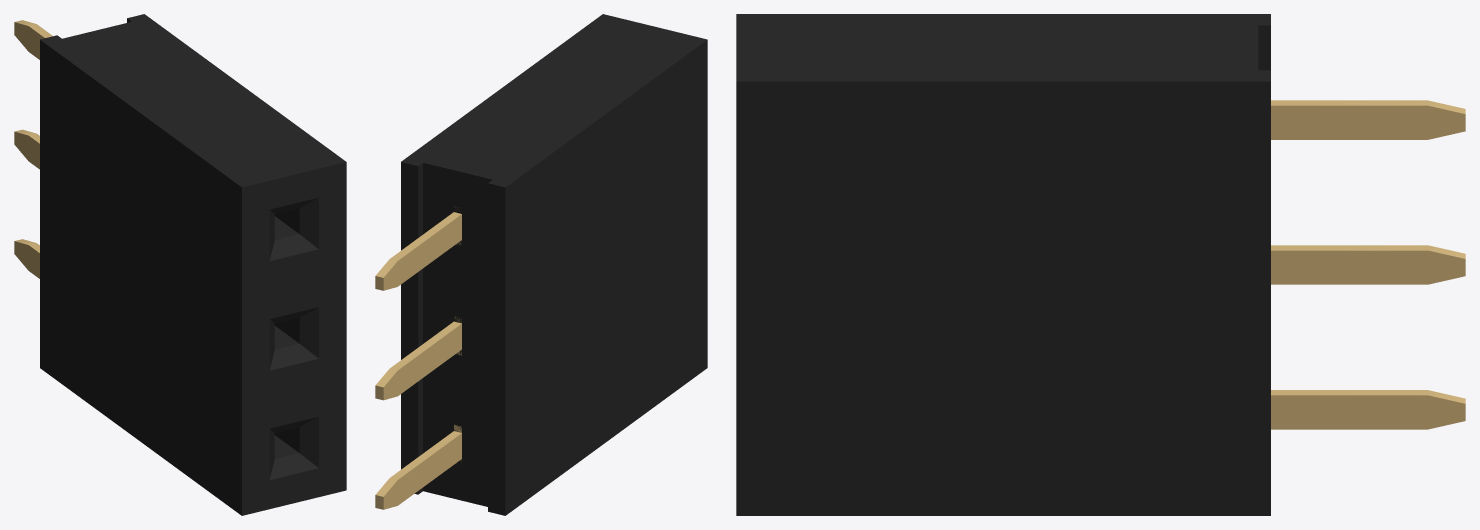
Rendered from socket-1x03.glb.
3 views of the same model, side by side, from view 1: azimuth 30°, elevation 25°; view 2: azimuth 150°, elevation 25°; view 3: azimuth 270°, elevation 25° (orthographic). The views are drawn at different scales.
Visible parts, largest first — view 1: IC-BODY-EPOXY-04, PIN-02 (×4); view 2: IC-BODY-EPOXY-04, PIN-02 (×4); view 3: IC-BODY-EPOXY-04, PIN-02 (×4).
Boxes of the visible parts, <box> form: IC-BODY-EPOXY-04: <box>40,14,346,515</box>; PIN-02 (×4): <box>14,20,52,278</box>; IC-BODY-EPOXY-04: <box>401,14,707,515</box>; PIN-02 (×4): <box>375,206,461,509</box>; IC-BODY-EPOXY-04: <box>736,14,1270,515</box>; PIN-02 (×4): <box>1271,100,1465,429</box>.
Size of the model in its own units: 2.54 by 7.62 by 11.6.
